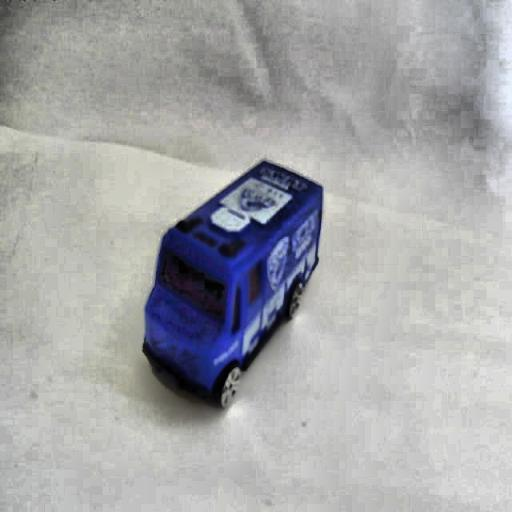police car: (143, 150, 324, 408)
